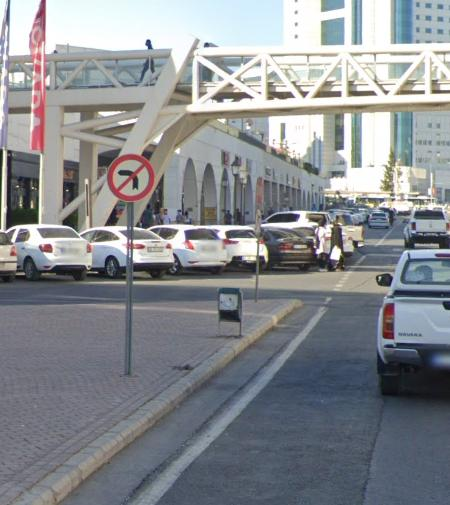leftturnsareforbidden: (111, 158, 150, 204)
